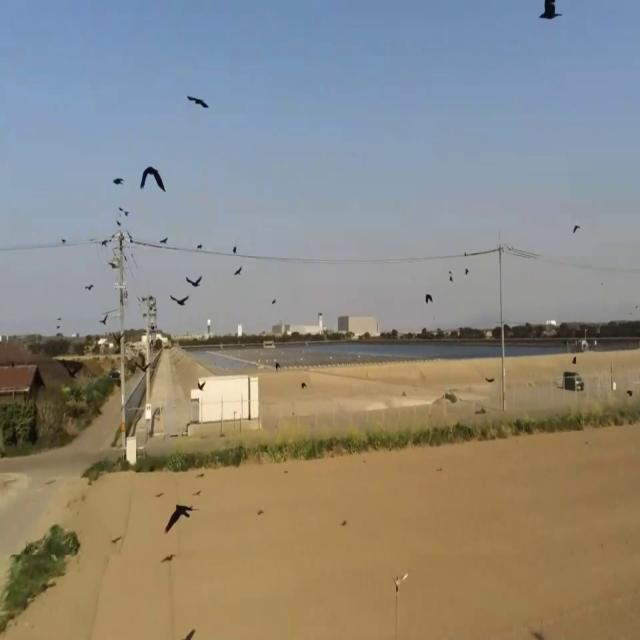bird: (165, 495, 192, 544), (141, 157, 165, 204), (540, 0, 561, 33), (187, 88, 208, 117), (171, 288, 189, 315), (186, 270, 203, 294), (112, 171, 122, 191), (85, 278, 94, 296), (424, 288, 432, 308), (234, 261, 242, 281), (198, 374, 206, 394), (101, 310, 109, 330), (572, 218, 580, 237), (274, 357, 279, 373), (464, 262, 468, 276), (449, 270, 453, 284)
